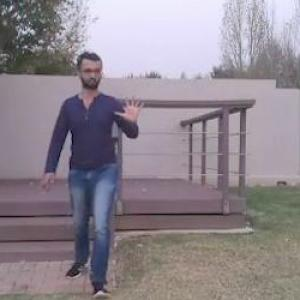follow_hand: (114, 87, 149, 128)
